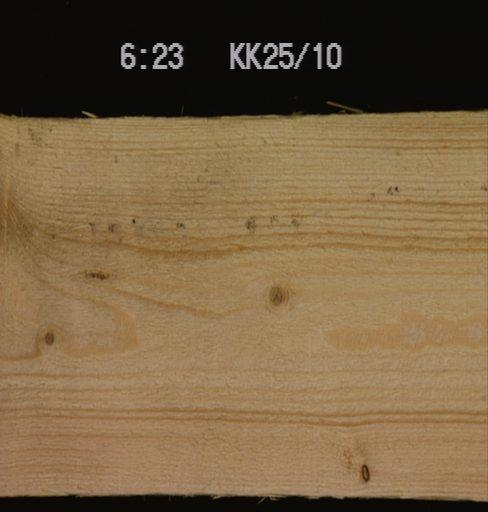dry_knot: (357, 458, 372, 486)
sound_knot: (263, 279, 291, 310), (39, 326, 59, 349)
